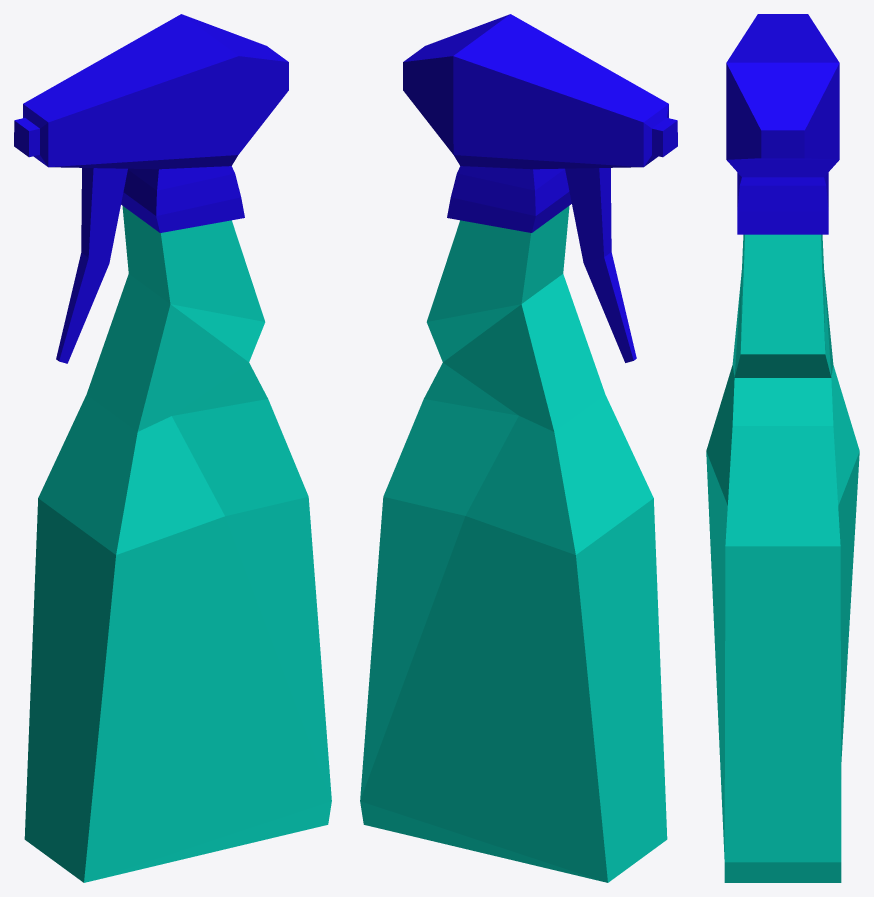
The model's file is Sprayer.fbx.
3 views of the same model, side by side, from view 1: azimuth 30°, elevation 25°; view 2: azimuth 150°, elevation 25°; view 3: azimuth 270°, elevation 25° (orthographic).
Parts seen in each view (by area): view 1: sprayer; view 2: sprayer; view 3: sprayer.
Boxes of the visible parts, x1=… form: sprayer: x1=14, y1=14, x2=331, y2=882; sprayer: x1=360, y1=14, x2=677, y2=882; sprayer: x1=706, y1=14, x2=859, y2=882.
Size of the model in its own units: 0.1289 by 0.3464 by 0.062.
